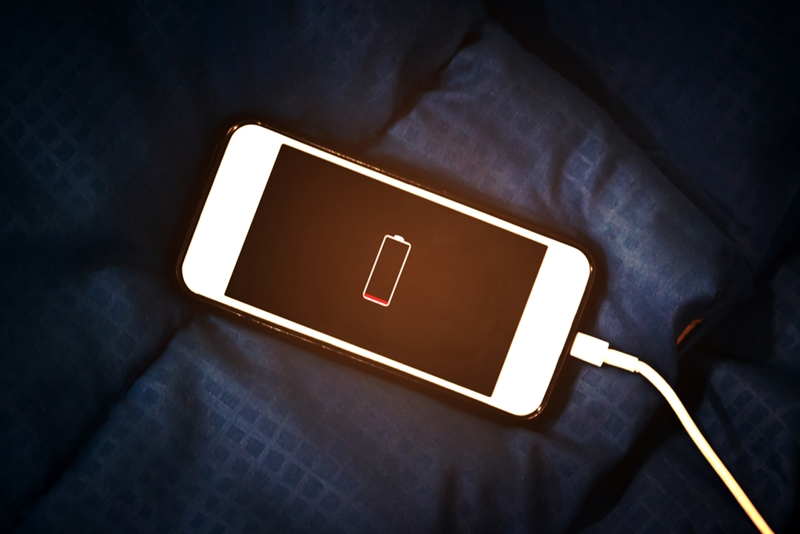phone: (163, 116, 609, 432)
